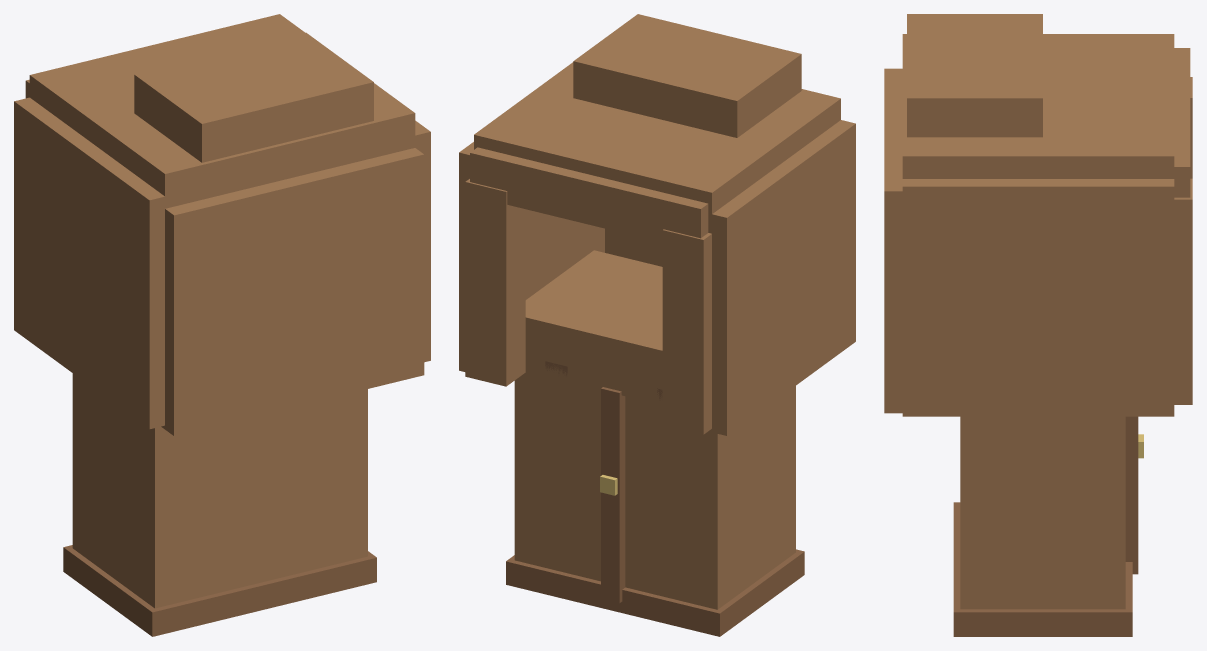
Rendered from ladino_tronco.glb.
3 views of the same model, side by side, from view 1: azimuth 30°, elevation 25°; view 2: azimuth 150°, elevation 25°; view 3: azimuth 270°, elevation 25° (orthographic). The views are drawn at different scales.
Visible parts, largest first — view 1: ladino_tronco; view 2: ladino_tronco; view 3: ladino_tronco.
Part boxes in pixels (bbox=[...]): ladino_tronco: bbox=[14, 14, 430, 636]; ladino_tronco: bbox=[459, 14, 855, 636]; ladino_tronco: bbox=[884, 14, 1192, 636].
Size of the model in its own units: 0.72 by 1.28 by 0.68.
